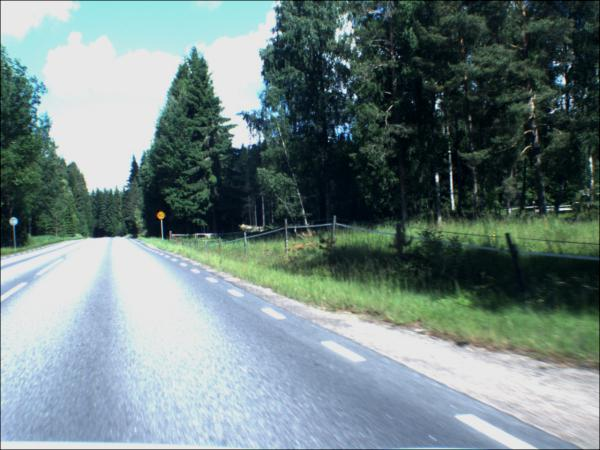80_SIGN: (158, 212, 167, 222)
